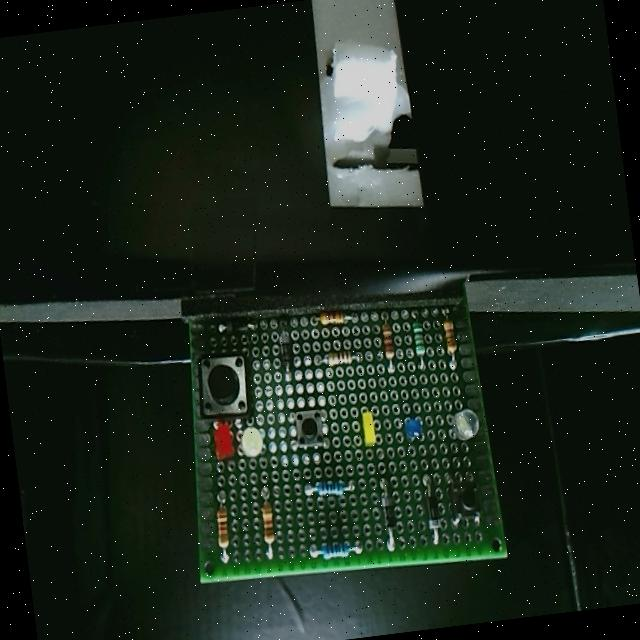diode: (374, 470, 404, 555), (416, 470, 446, 548), (272, 321, 298, 381), (214, 310, 262, 338)
led: (442, 403, 482, 444), (234, 422, 270, 460), (209, 416, 238, 462), (356, 404, 382, 451), (399, 411, 428, 443)
resistor: (209, 487, 238, 565), (254, 482, 282, 562), (299, 470, 360, 502), (308, 340, 367, 372), (435, 302, 462, 370), (307, 532, 366, 562), (378, 306, 402, 374), (406, 306, 430, 373), (309, 305, 360, 332)
switch: (191, 344, 259, 428), (442, 468, 485, 528), (285, 401, 332, 454)
